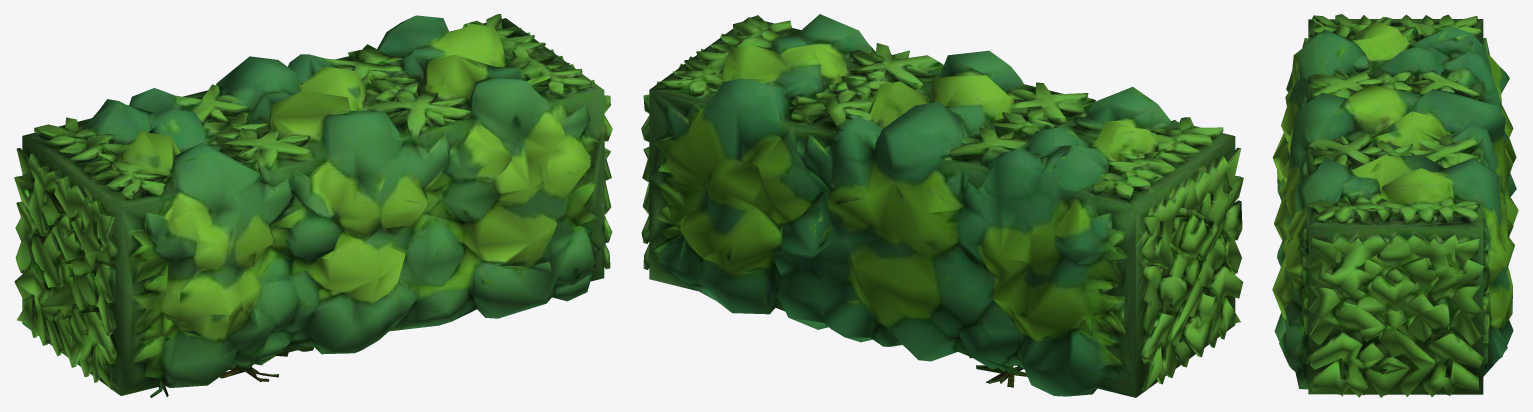
The model's file is hedge-straight.glb.
3 renders of one model, left to right at view 1: azimuth 30°, elevation 25°; view 2: azimuth 150°, elevation 25°; view 3: azimuth 270°, elevation 25°, orthographic. The views are drawn at different scales.
Visible parts, largest first — view 1: node_0; view 2: node_0; view 3: node_0.
Part boxes in pixels (x1,y1,x2,y2): node_0: [14, 14, 612, 397]; node_0: [641, 14, 1243, 397]; node_0: [1272, 14, 1518, 397].
Size of the model in its own units: 3.4 by 1.59 by 1.64.
1 material, 1 textured.
